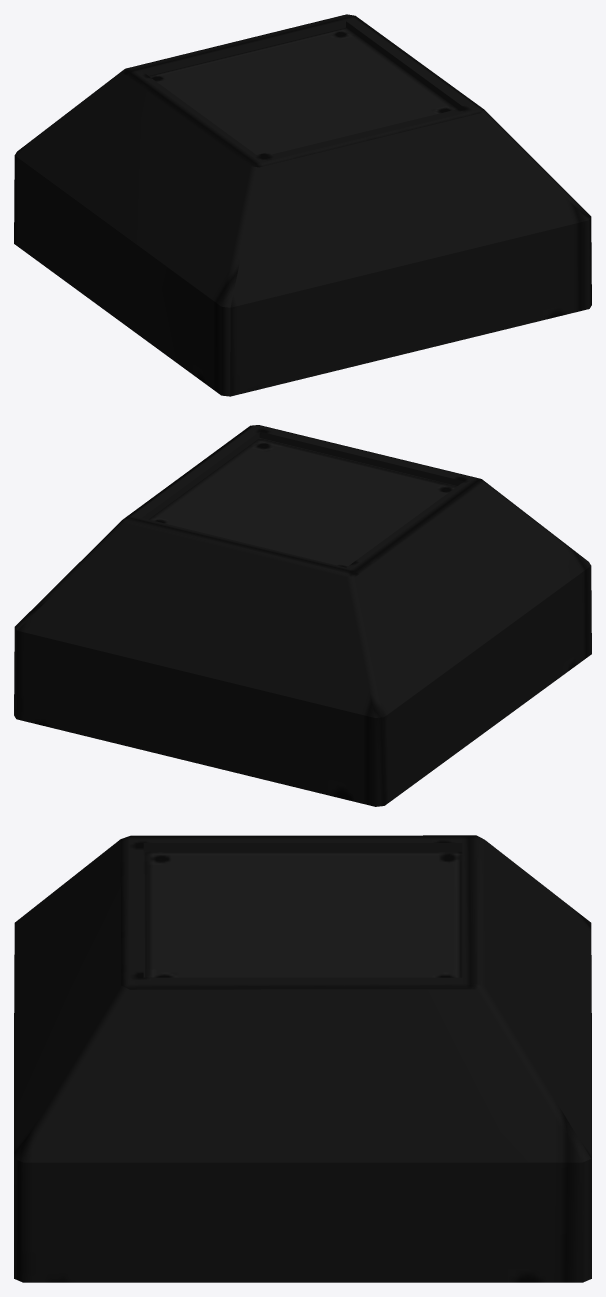
The model's file is block_1.fbx.
3 views of the same model, one above another, from view 1: azimuth 30°, elevation 25°; view 2: azimuth 150°, elevation 25°; view 3: azimuth 270°, elevation 25° (orthographic). The views are drawn at different scales.
Visible parts, largest first — view 1: S_Outworld_prop_0746; view 2: S_Outworld_prop_0746; view 3: S_Outworld_prop_0746.
Boxes of the visible parts, x1=… form: S_Outworld_prop_0746: x1=14, y1=14, x2=591, y2=396; S_Outworld_prop_0746: x1=14, y1=425, x2=591, y2=806; S_Outworld_prop_0746: x1=14, y1=835, x2=591, y2=1282.
Size of the model in its own units: 101 by 48.41 by 101.
